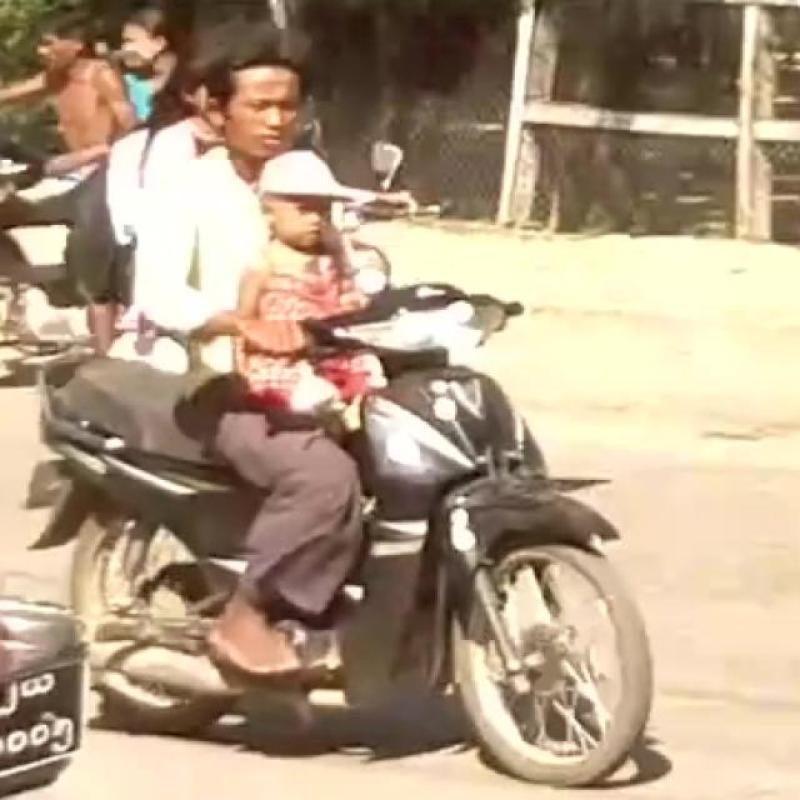nohelmet: (181, 21, 337, 150), (263, 153, 367, 247)
